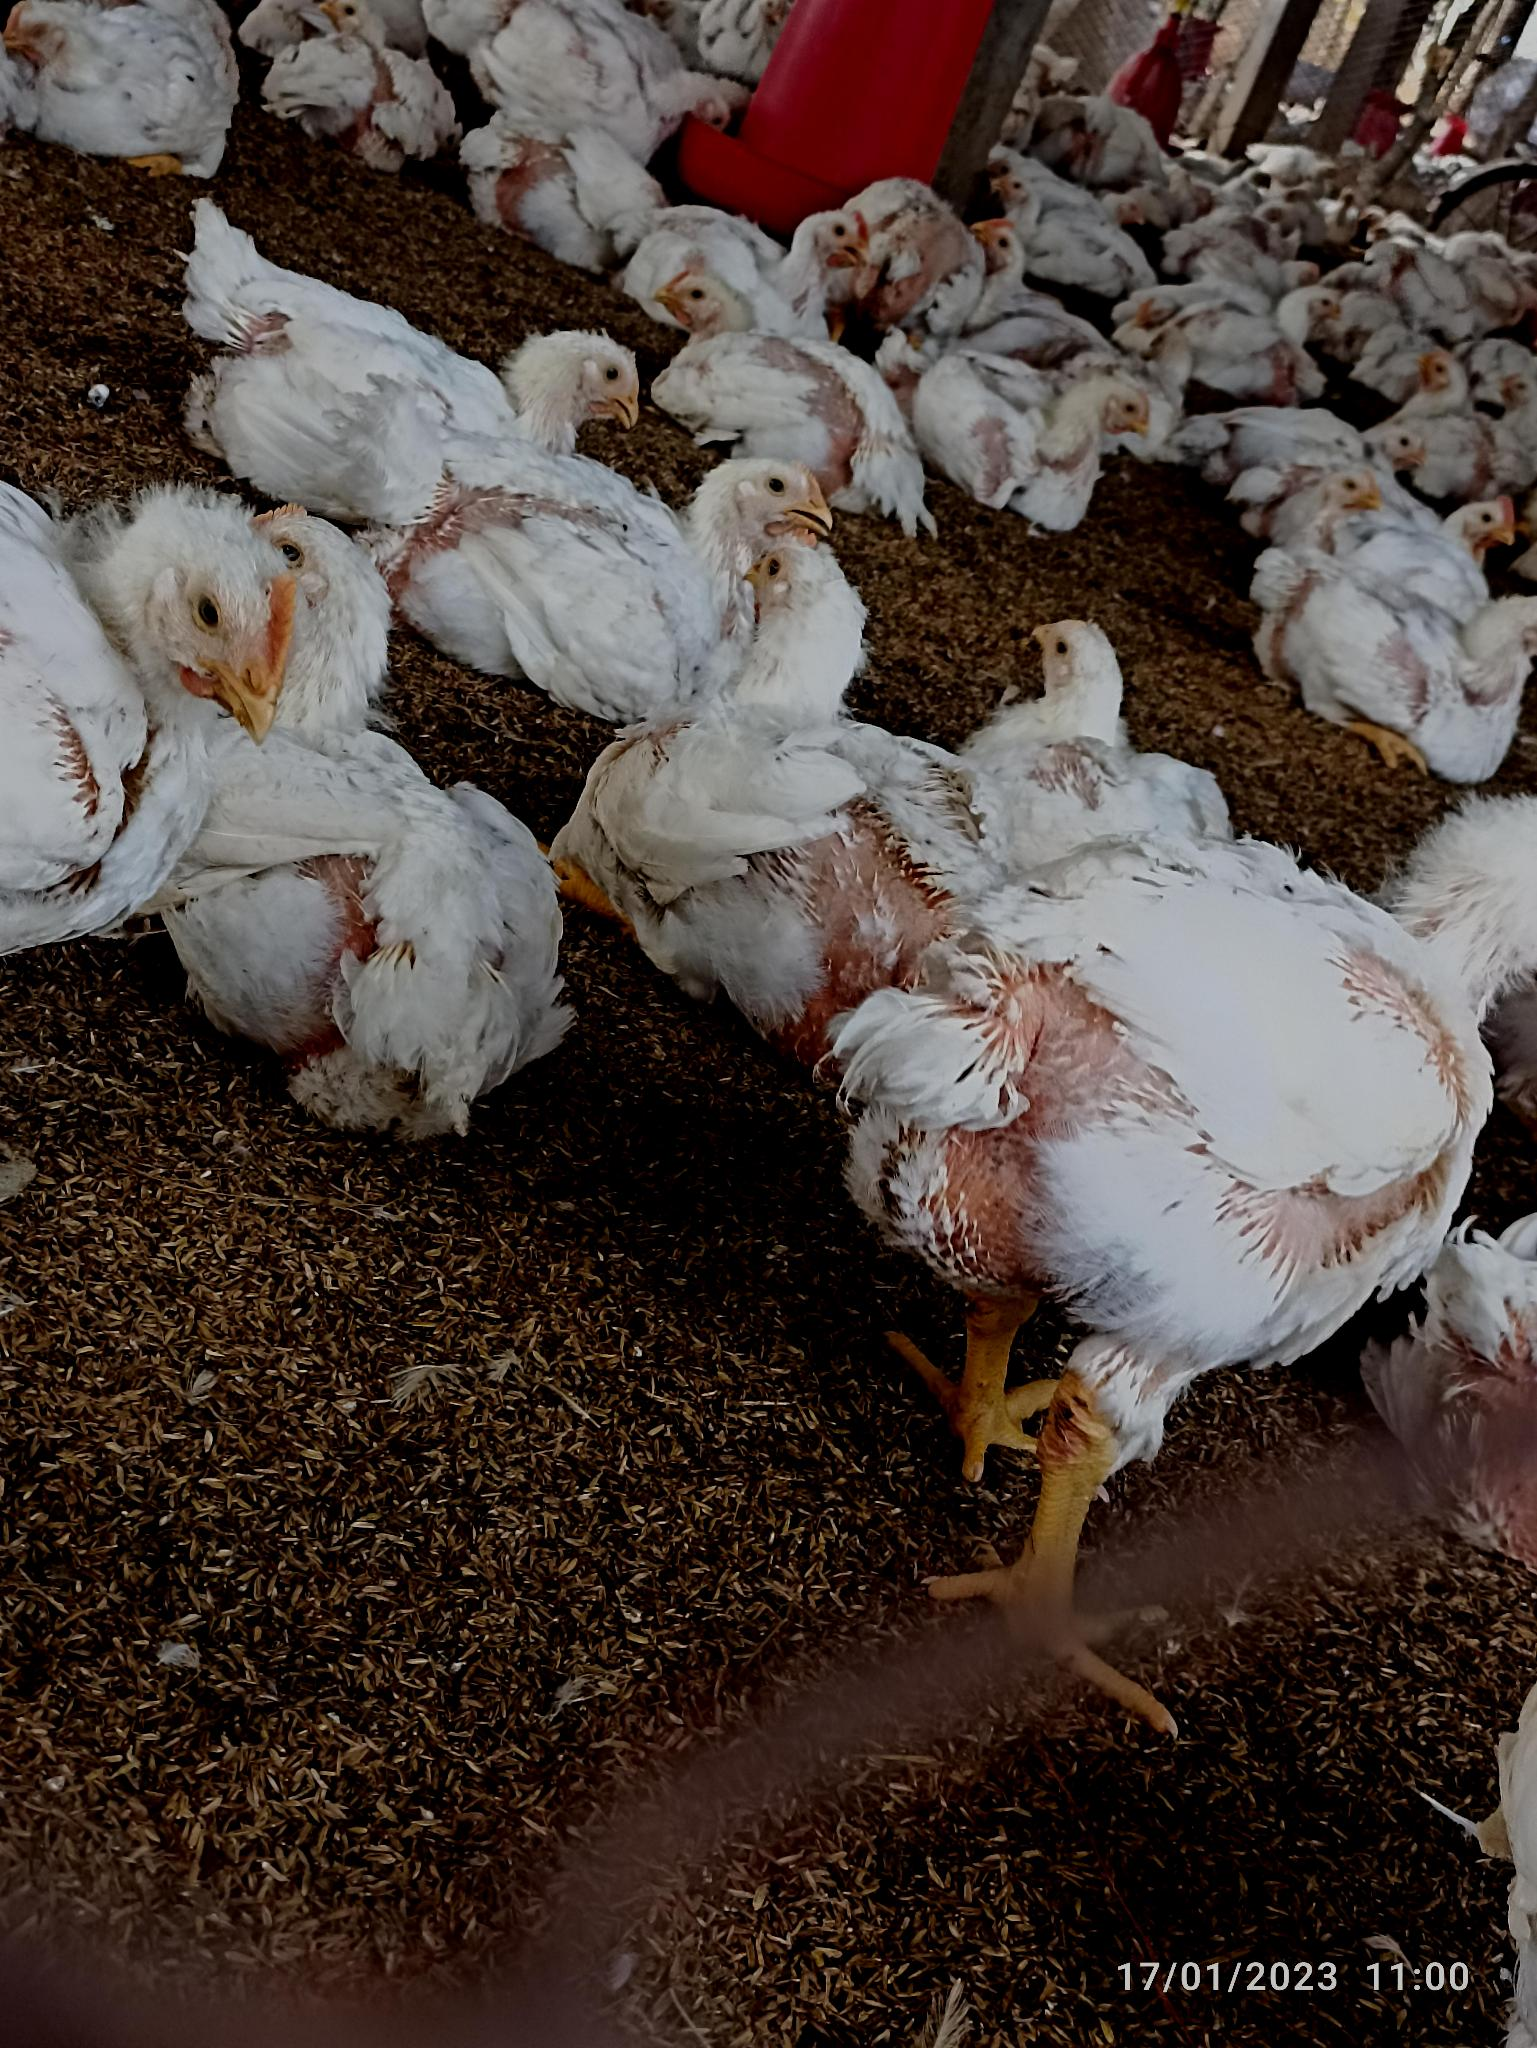Pollos: (849, 791, 1537, 1359), (16, 483, 300, 963), (197, 202, 638, 489), (384, 447, 836, 675), (1254, 541, 1537, 762), (965, 613, 1227, 842), (915, 339, 1150, 529), (652, 265, 899, 439), (266, 2, 450, 174), (1145, 279, 1337, 407), (990, 171, 1162, 295)
